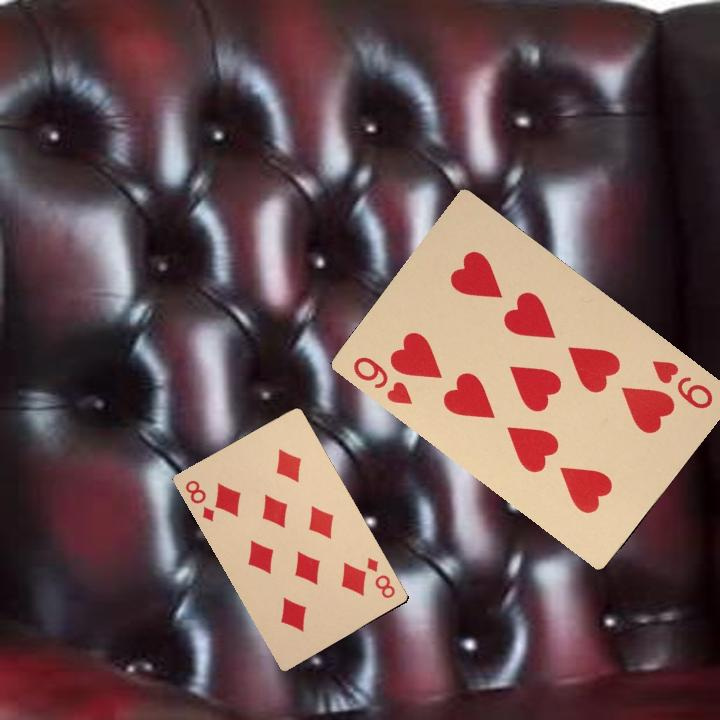8d: (362, 553, 398, 601), (181, 476, 217, 524)
9h: (647, 356, 716, 412), (348, 352, 415, 408)
